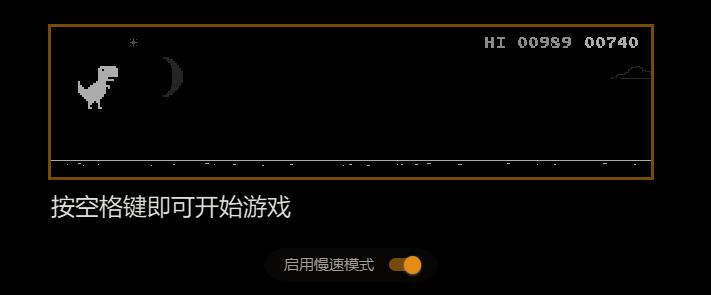dino: (76, 65, 118, 110)
